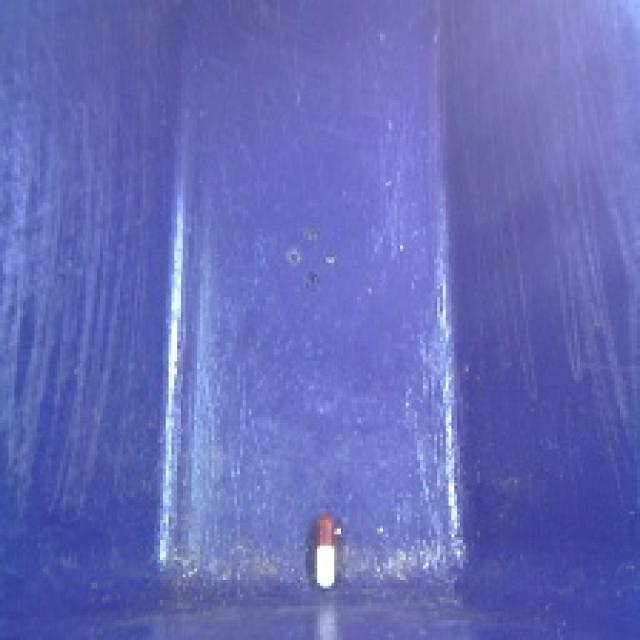small: (312, 509, 340, 595)
